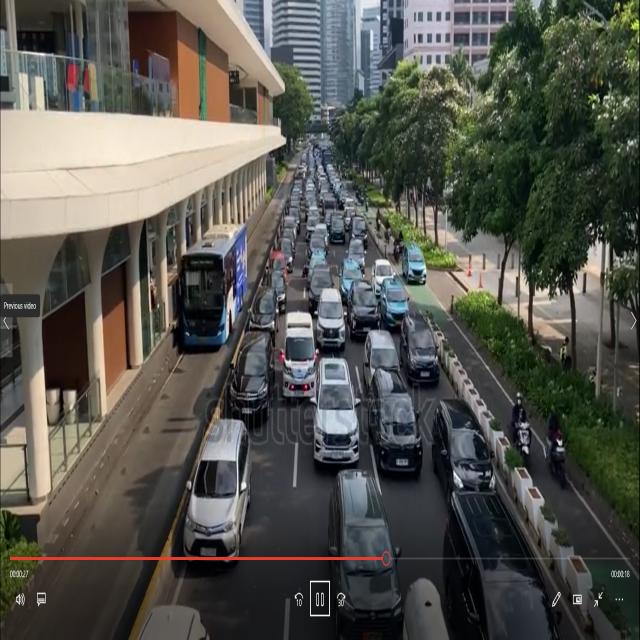Ambulance: (278, 307, 318, 409)
